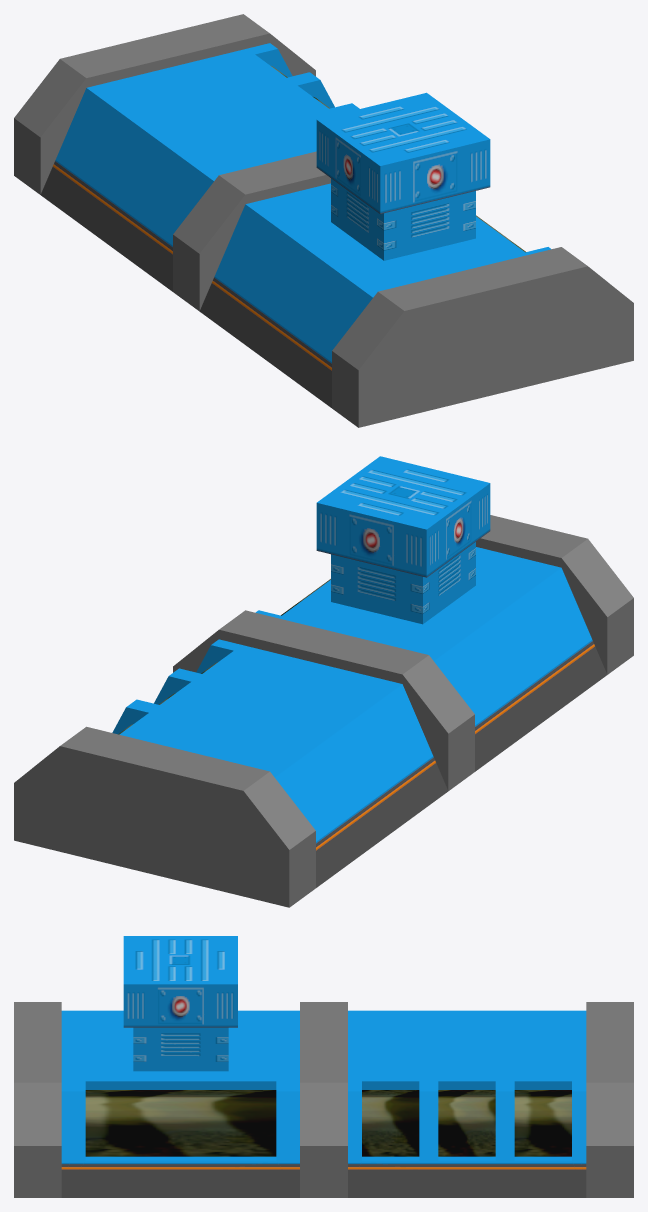
Rendered from houston1_alt.obj.
3 renders of one model, top to bottom at view 1: azimuth 30°, elevation 25°; view 2: azimuth 150°, elevation 25°; view 3: azimuth 270°, elevation 25°, orthographic. The views are drawn at different scales.
Visible parts, largest first — view 1: ColobotMesh_1_ColobotMesh_; view 2: ColobotMesh_1_ColobotMesh_; view 3: ColobotMesh_1_ColobotMesh_, Szyby_ColobotMesh_.001.
Part boxes in pixels (left/top/right/bottom): ColobotMesh_1_ColobotMesh_: left=14, top=14, right=633, bottom=427; ColobotMesh_1_ColobotMesh_: left=14, top=456, right=633, bottom=907; ColobotMesh_1_ColobotMesh_: left=14, top=936, right=633, bottom=1197; Szyby_ColobotMesh_.001: left=85, top=1090, right=571, bottom=1156.
Size of the model in its own units: 60 by 41 by 130.
